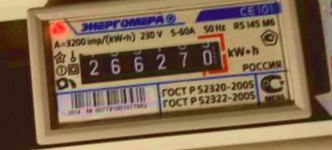0: (201, 45, 215, 64)
2: (86, 55, 101, 74), (155, 49, 168, 68)
6: (132, 52, 146, 72), (109, 54, 123, 73)
7: (178, 47, 191, 66)
screen: (68, 27, 235, 92)
